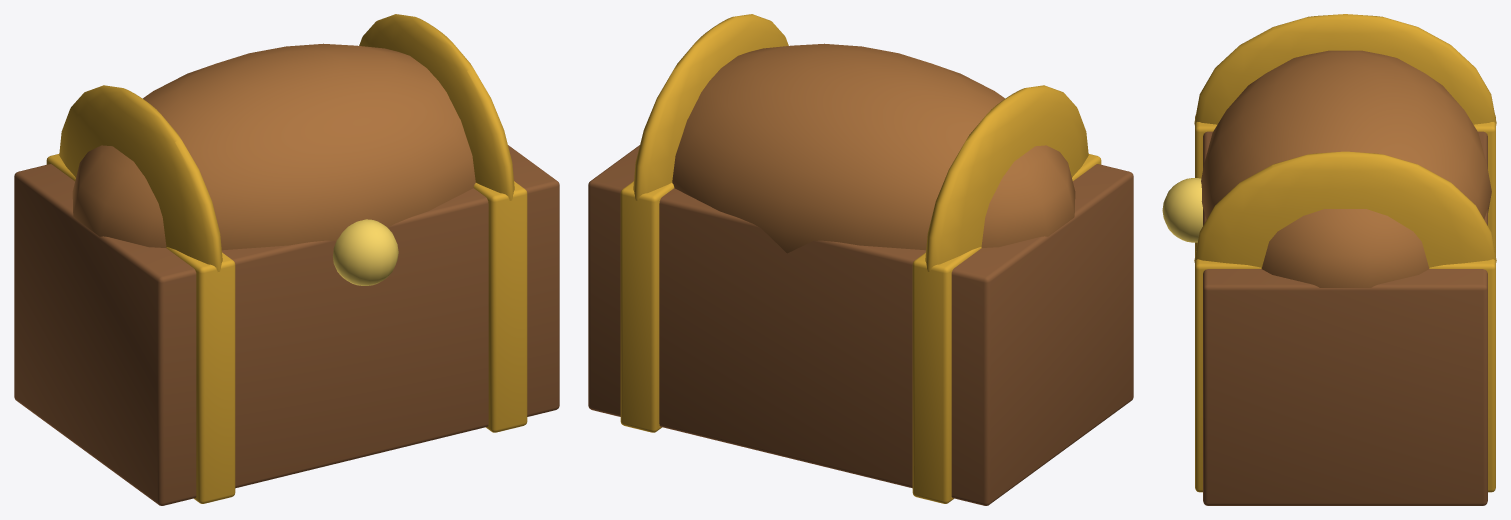
The model's file is chest.glb.
3 views of the same model, side by side, from view 1: azimuth 30°, elevation 25°; view 2: azimuth 150°, elevation 25°; view 3: azimuth 270°, elevation 25° (orthographic). The views are drawn at different scales.
Parts seen in each view (by area): view 1: chest; view 2: chest; view 3: chest.
Part boxes in pixels (x1=…): chest: x1=14, y1=14, x2=559, y2=505; chest: x1=588, y1=14, x2=1133, y2=505; chest: x1=1162, y1=14, x2=1496, y2=505.
Size of the model in its own units: 1.1 by 0.906 by 0.8213.
